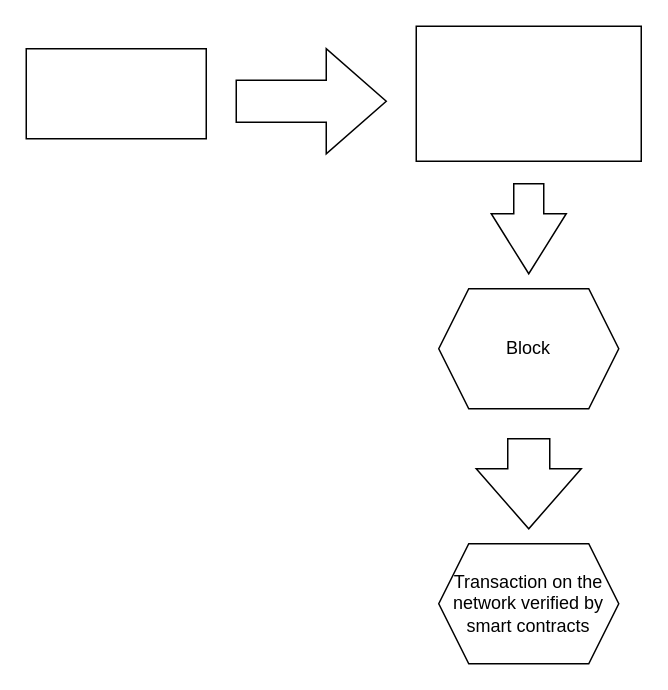
The diagram is 668 pixels wide and 690 high, and some of its shapes have lost their labels. Each missing label, with the box of its shape:
Client: (25, 47, 206, 139)
ISBN Title Author Unique Book ID: (415, 25, 641, 161)
